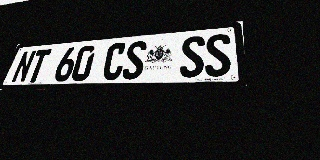0: (70, 45, 97, 81)
6: (53, 46, 79, 82)
C: (101, 42, 128, 80)
N: (10, 50, 37, 83)
S: (205, 33, 231, 77), (179, 35, 205, 78), (121, 40, 148, 80)
T: (25, 49, 52, 83)
